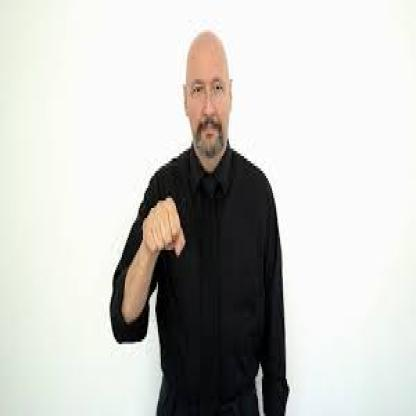yes: (136, 185, 190, 276)
